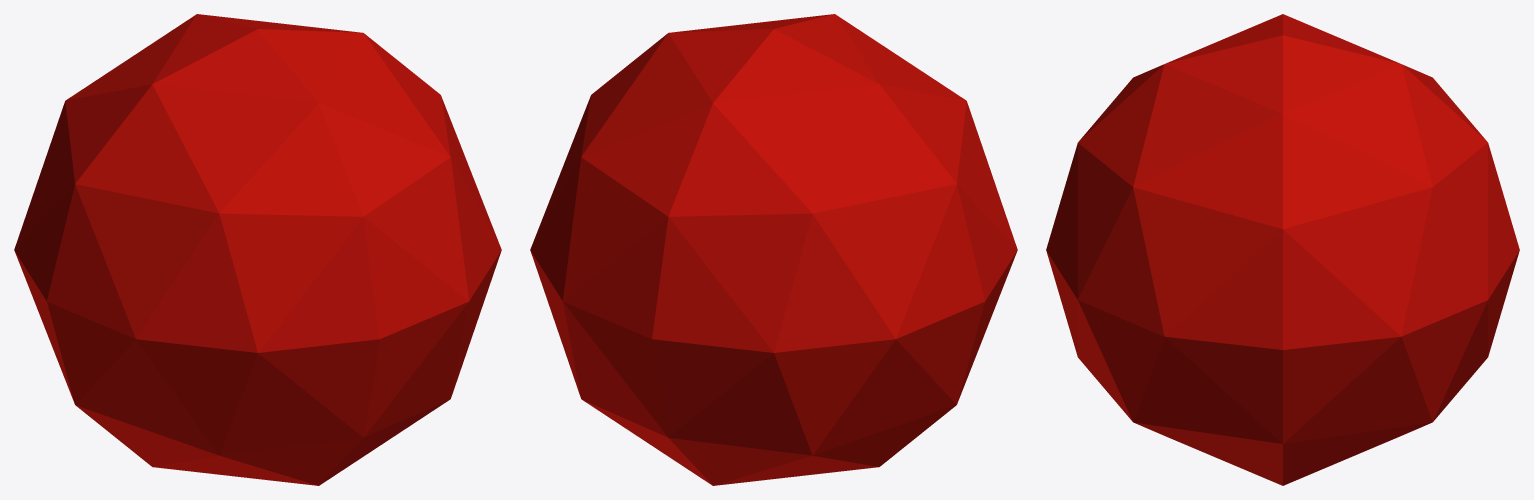
File: Sun.FBX
The picture shows the model from 3 angles, left to right: view 1: azimuth 30°, elevation 25°; view 2: azimuth 150°, elevation 25°; view 3: azimuth 270°, elevation 25°; orthographic projection. The views are drawn at different scales.
Parts seen in each view (by area): view 1: GeoSphere001; view 2: GeoSphere001; view 3: GeoSphere001.
Part boxes in pixels (bbox=[...]): GeoSphere001: bbox=[14, 14, 501, 485]; GeoSphere001: bbox=[530, 14, 1017, 485]; GeoSphere001: bbox=[1046, 14, 1519, 485].
Size of the model in its own units: 222 by 222 by 222.
